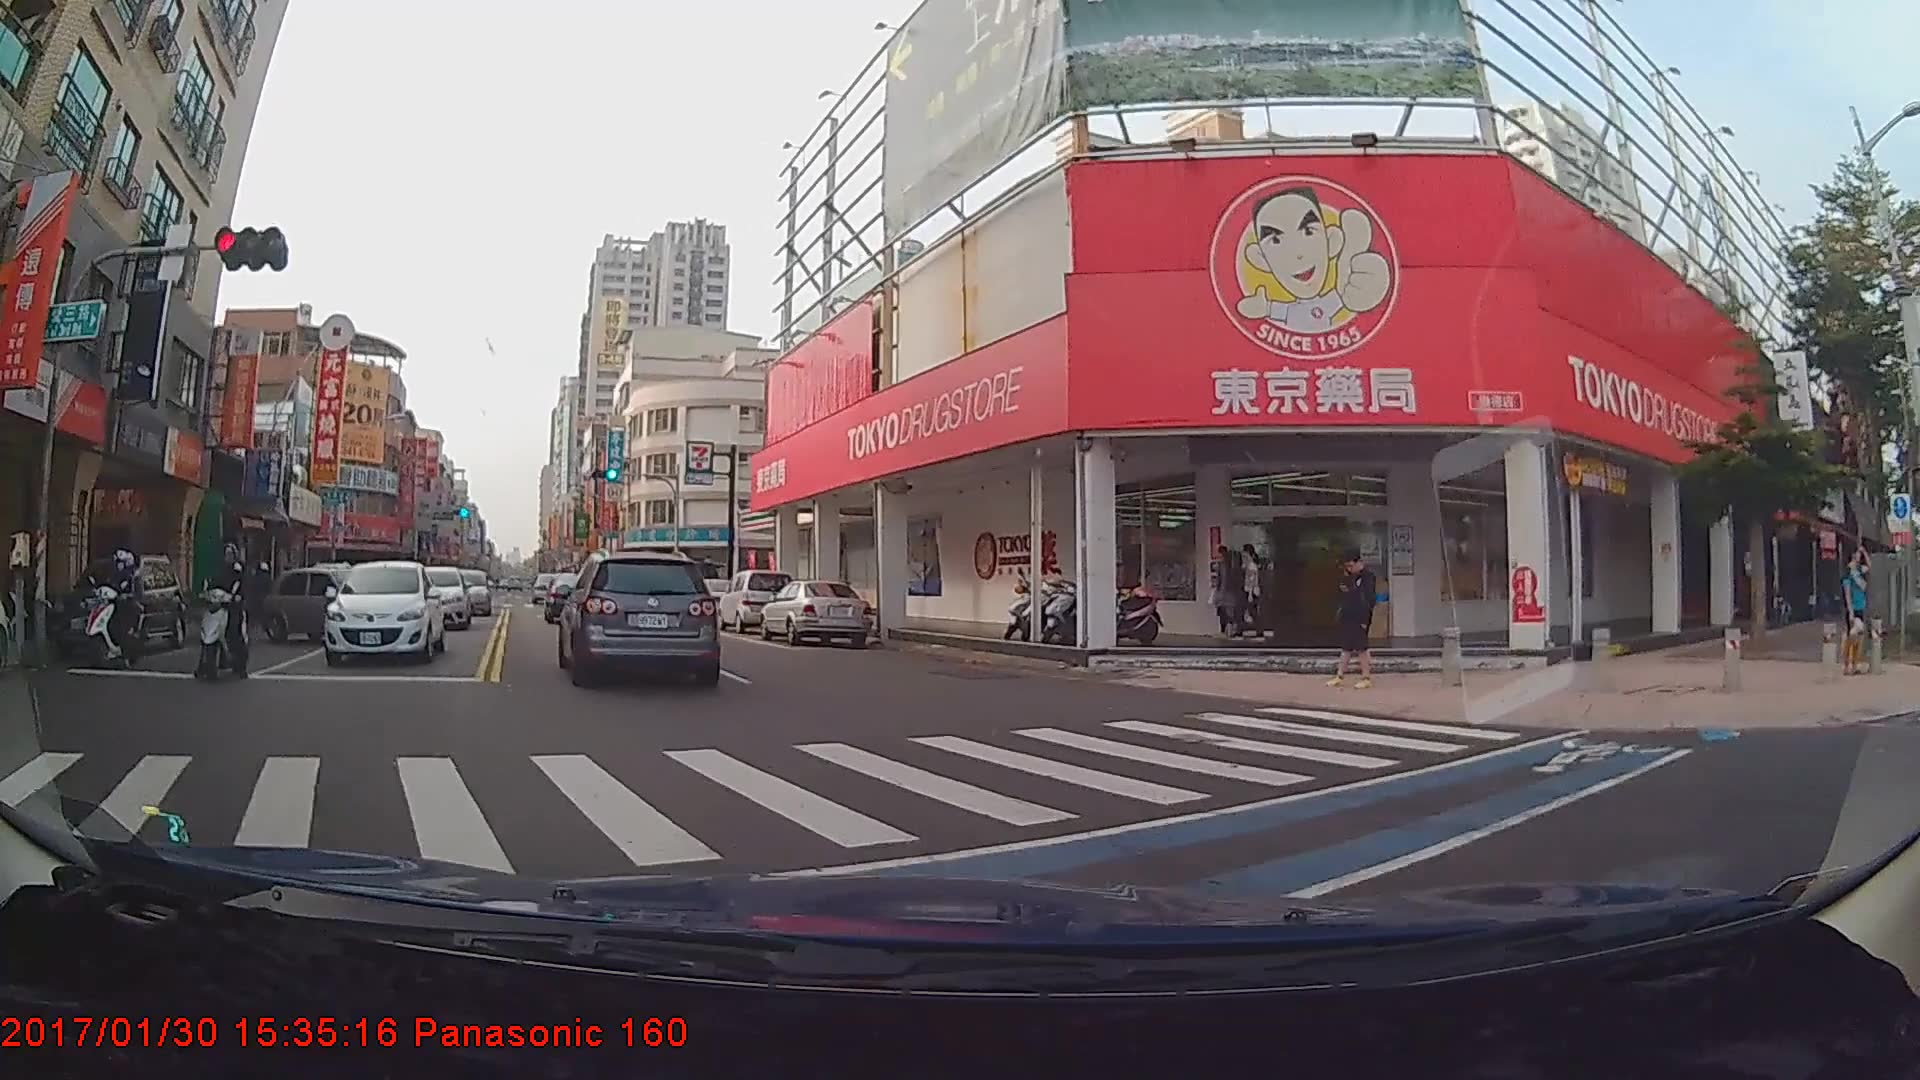pedestrian: (1331, 544, 1380, 693), (1836, 546, 1875, 686), (1211, 547, 1247, 646), (1233, 543, 1269, 634)
rider: (72, 553, 161, 671), (193, 543, 261, 685)
vehicle: (563, 552, 717, 685), (48, 552, 188, 663), (324, 564, 444, 669), (262, 565, 387, 644), (759, 576, 872, 648), (715, 569, 796, 634), (400, 565, 469, 630), (443, 567, 491, 616)
